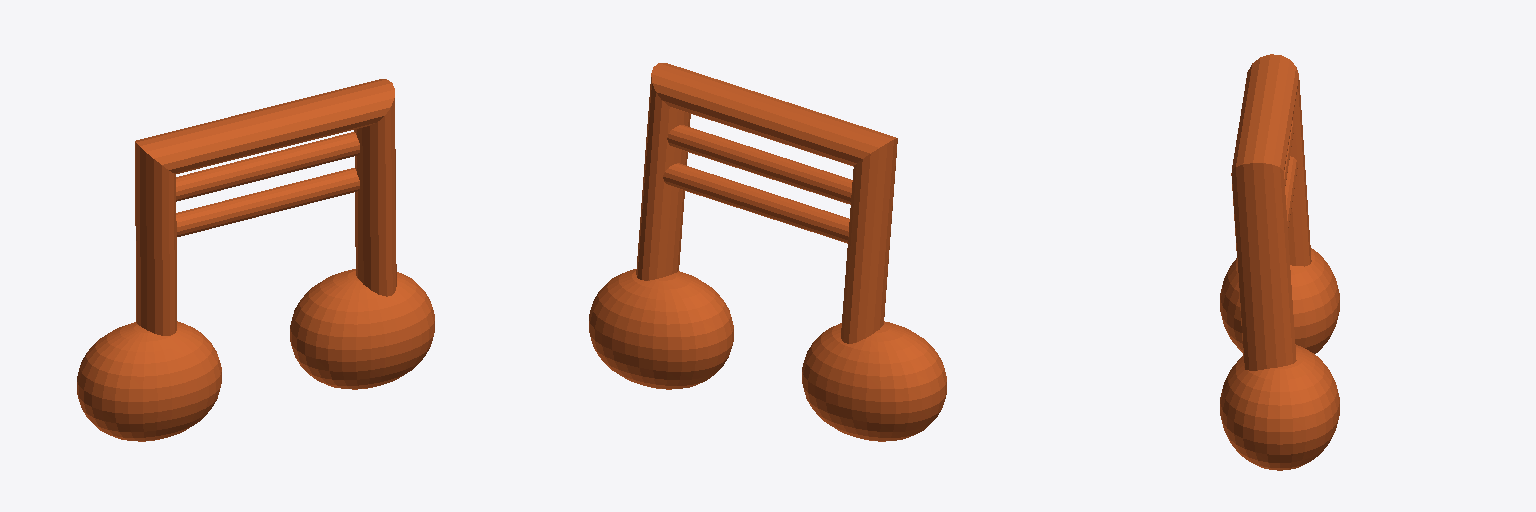
File: music5.obj
3 views of the same model, side by side, from view 1: azimuth 30°, elevation 25°; view 2: azimuth 150°, elevation 25°; view 3: azimuth 270°, elevation 25° (orthographic).
Parts seen in each view (by area): view 1: ???, ??, ??.1, ???.1, ???.2; view 2: ???, ??.1, ??, ???.2, ???.1; view 3: ???, ??.1, ??.
Boxes of the visible parts, x1=… form: ???: x1=135, y1=79, x2=396, y2=335; ??: x1=77, y1=321, x2=221, y2=441; ??.1: x1=290, y1=269, x2=434, y2=389; ???.1: x1=176, y1=132, x2=359, y2=201; ???.2: x1=176, y1=168, x2=359, y2=236; ???: x1=636, y1=63, x2=897, y2=343; ??.1: x1=589, y1=269, x2=733, y2=389; ??: x1=802, y1=321, x2=946, y2=441; ???.2: x1=663, y1=163, x2=849, y2=243; ???.1: x1=667, y1=125, x2=852, y2=204; ???: x1=1231, y1=54, x2=1311, y2=370; ??.1: x1=1220, y1=344, x2=1339, y2=470; ??: x1=1220, y1=248, x2=1339, y2=353.
Bounding box in the file's own units: 52.26 × 44.36 × 15.64.